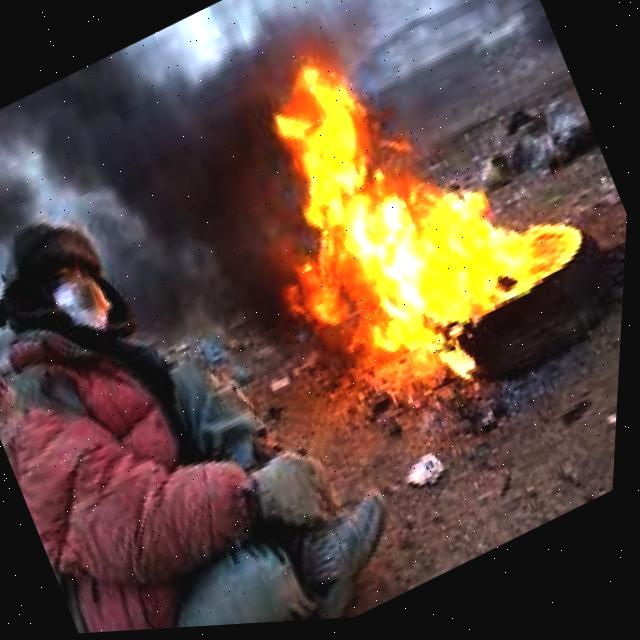Fire: (254, 11, 587, 392)
Smoke: (27, 0, 365, 390)
